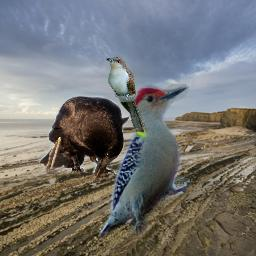Crow: (38, 95, 132, 179)
Cuckoo: (106, 57, 147, 138)
Woodpecker: (97, 84, 191, 239)
